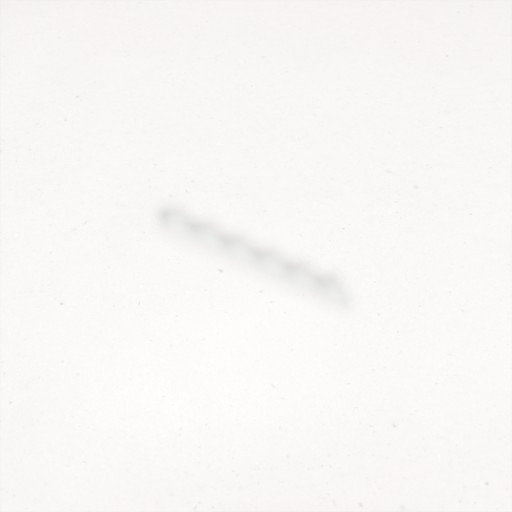lego: (154, 202, 356, 317)
